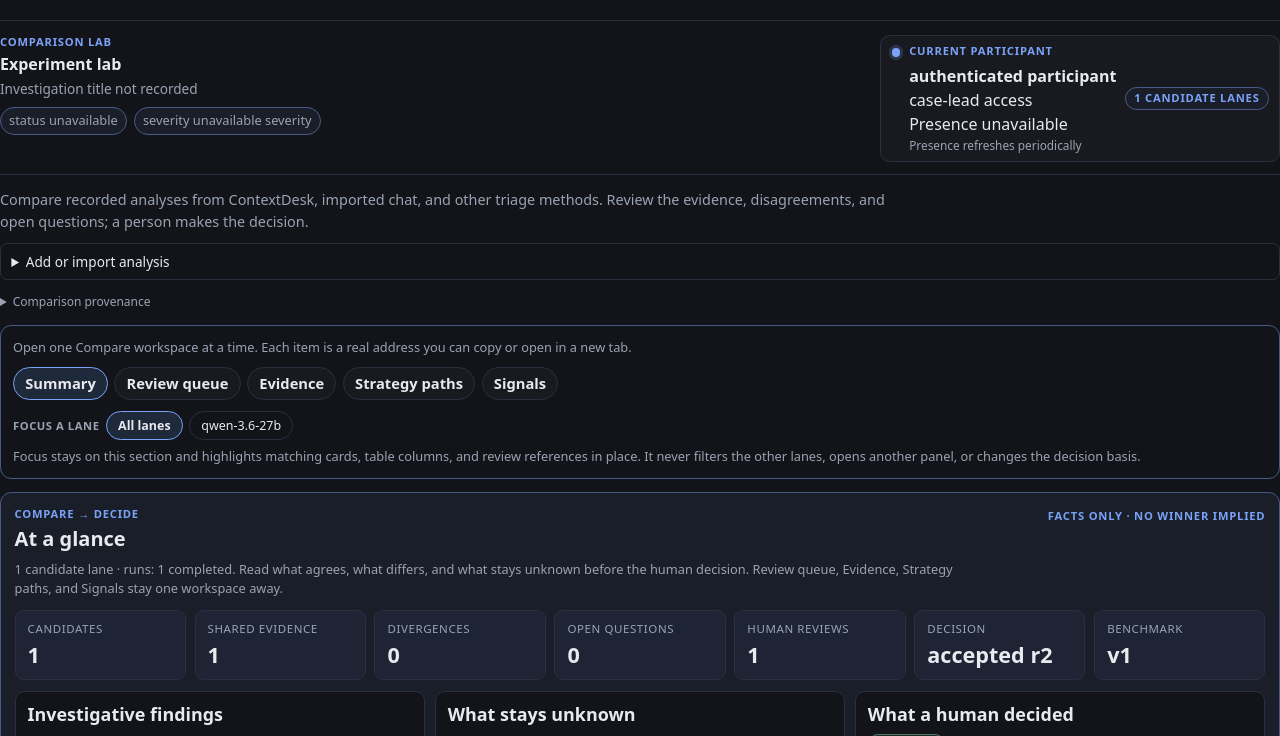
Test: experiment lab › keeps observed run facts, helpfulness, and gold alignment in separate labeled regions
Click the link "Signals" at (520, 384), box top-left (482, 367), bottom-right (558, 400)
(page scrolled)
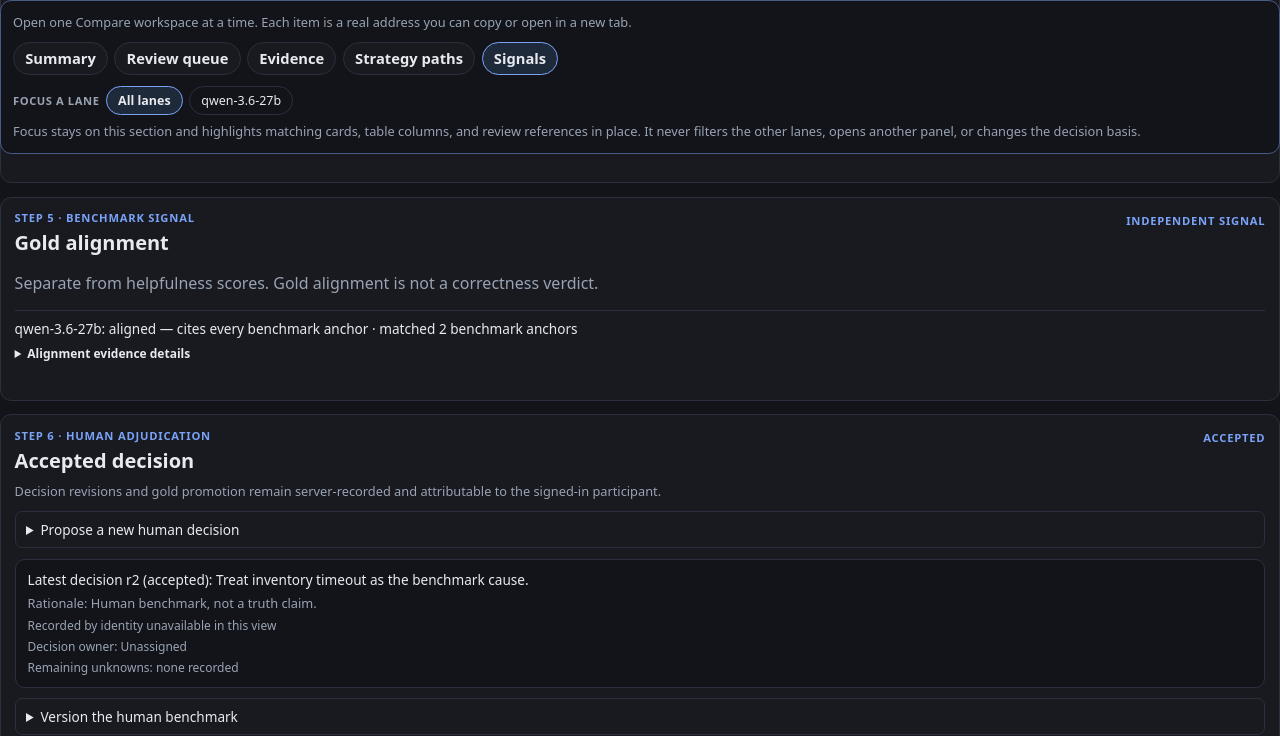
Expected: the text "Gold alignment is not a correctness verdict" is shown, top-left (15, 272), bottom-right (598, 294)
